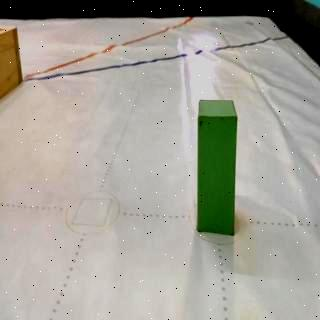greenbox: (196, 98, 236, 236)
